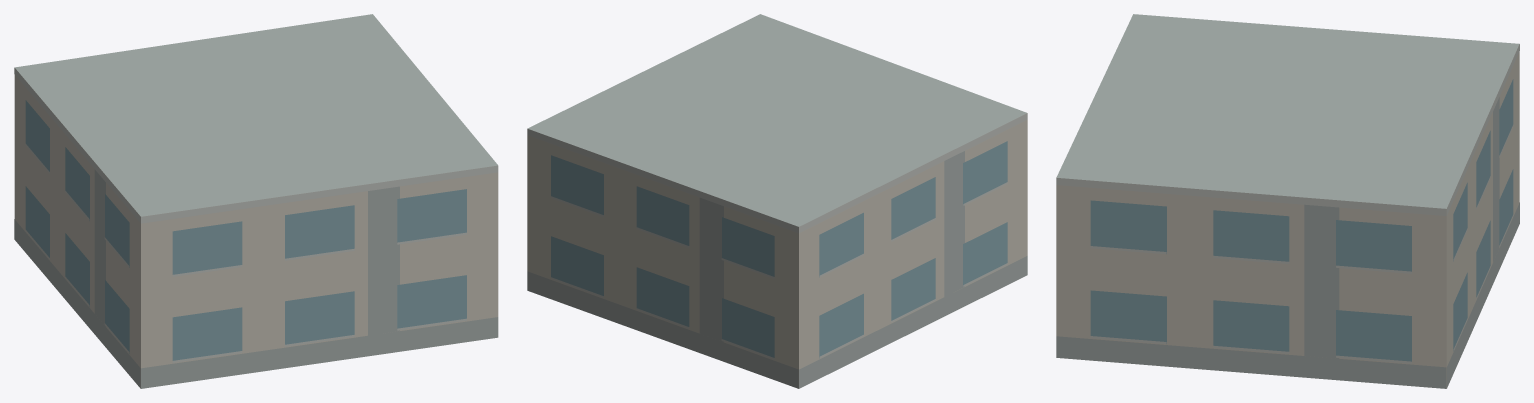
Rendered from survey-upis-32779047.glb.
3 views of the same model, side by side, from view 1: azimuth 30°, elevation 25°; view 2: azimuth 150°, elevation 25°; view 3: azimuth 270°, elevation 25° (orthographic). The views are drawn at different scales.
Visible parts, largest first — view 1: survey-upis-32779047.tmp; view 2: survey-upis-32779047.tmp; view 3: survey-upis-32779047.tmp.
Boxes of the visible parts, x1,y1,x2,y2 form: survey-upis-32779047.tmp: (14, 14, 498, 388); survey-upis-32779047.tmp: (527, 14, 1027, 388); survey-upis-32779047.tmp: (1056, 14, 1519, 388).
Bounding box in the file's own units: 14.17 × 6.1 × 14.24.
